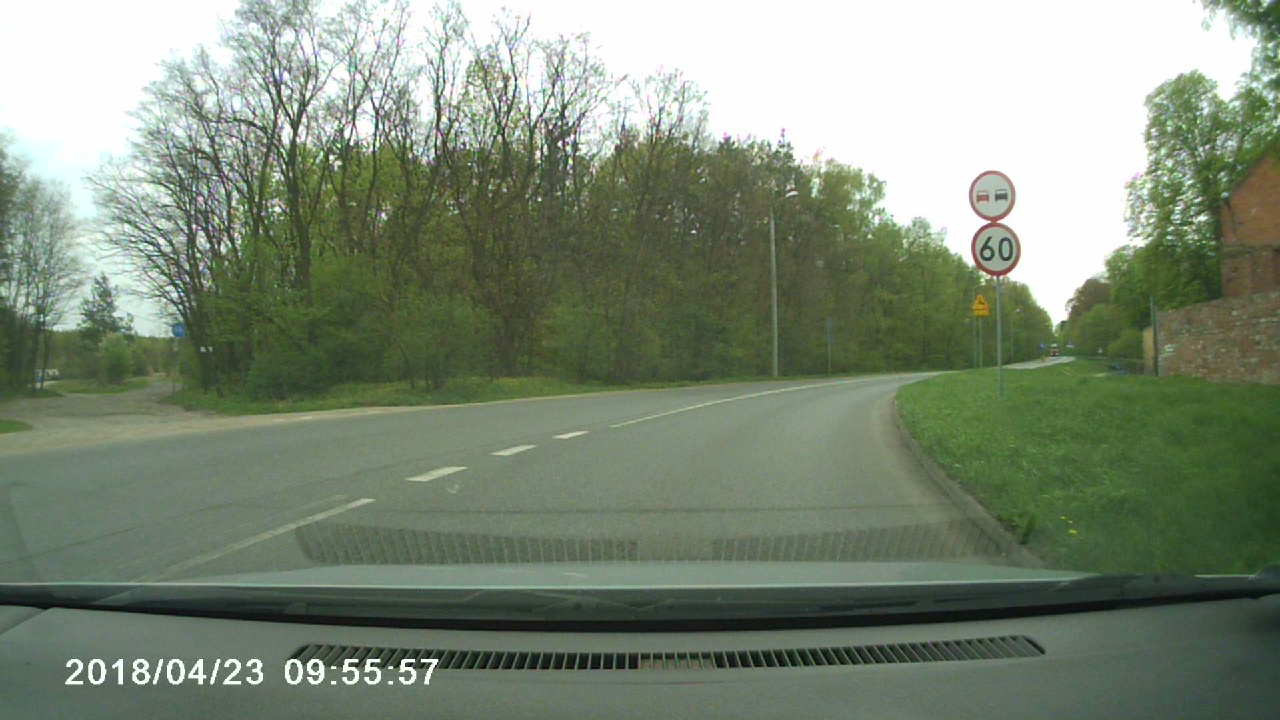B25: (969, 171, 1016, 221)
B33_60: (972, 222, 1022, 277)
